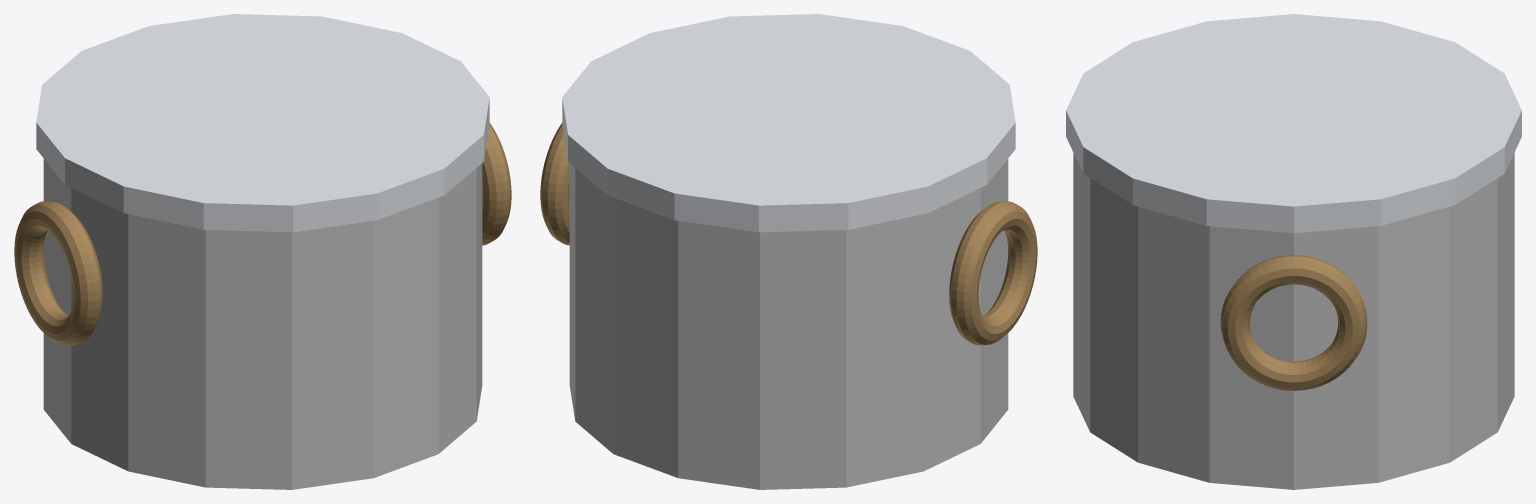
The model's file is pot.glb.
3 renders of one model, left to right at view 1: azimuth 30°, elevation 25°; view 2: azimuth 150°, elevation 25°; view 3: azimuth 270°, elevation 25°, orthographic.
Parts seen in each view (by area): view 1: PotBody, PotRim, PotHandle, PotHandle.001; view 2: PotBody, PotRim, PotHandle, PotHandle.001; view 3: PotBody, PotRim, PotHandle.001.
Part boxes in pixels (x1,y1,x2,y2): PotBody: [43, 159, 482, 489]; PotRim: [36, 14, 489, 232]; PotHandle: [14, 201, 102, 345]; PotHandle.001: [482, 123, 511, 245]; PotBody: [569, 159, 1008, 489]; PotRim: [562, 14, 1015, 232]; PotHandle: [949, 201, 1037, 345]; PotHandle.001: [540, 123, 569, 245]; PotBody: [1073, 153, 1514, 489]; PotRim: [1066, 14, 1521, 233]; PotHandle.001: [1220, 255, 1367, 390].
Bounding box in the file's own units: 0.68 × 0.43 × 0.62.
